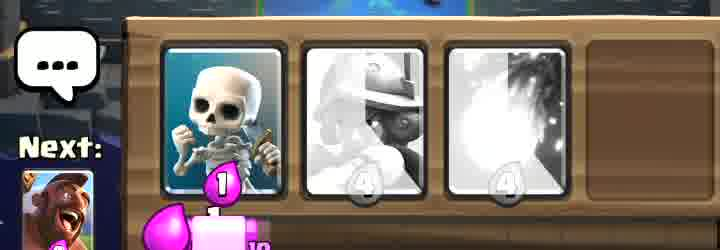hog-rider: (23, 170, 92, 250)
